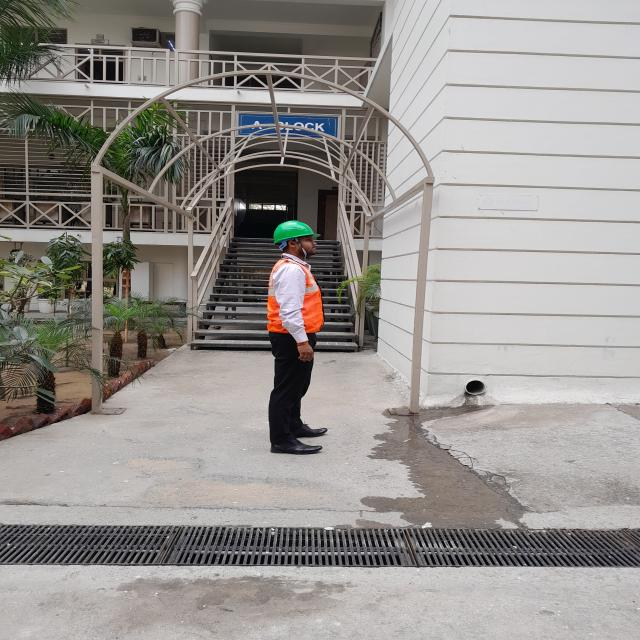safe: (268, 222, 327, 453)
